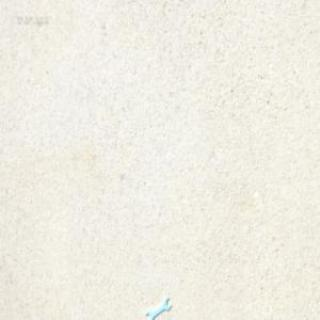Wrenchtrack_idkeyframe: (144, 293, 170, 317)
